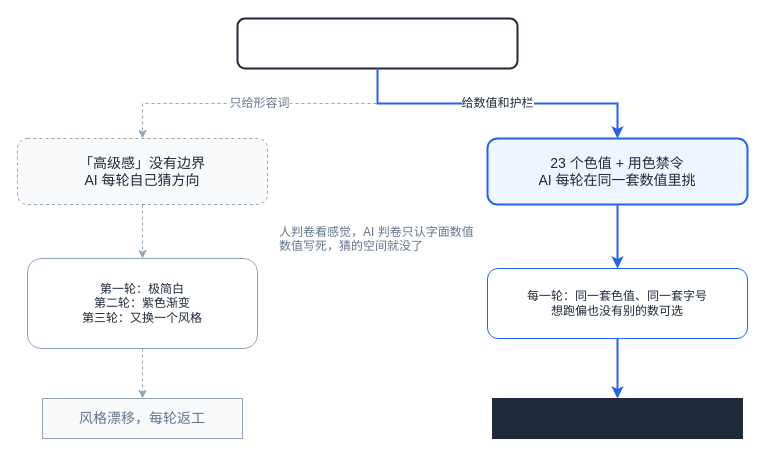
The diagram is 766 pixels wide and 456 high, and some of its shapes have lost their labels. Each missing label, with the box of its shape:
同一句需求：「再高级一点」: (236, 17, 518, 69)
风格锁定，改一处即可守: (492, 398, 742, 438)
